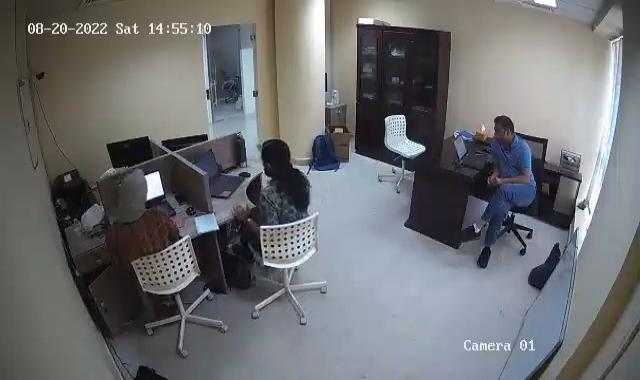no_hairnet: (257, 139, 300, 177), (491, 113, 520, 150), (118, 168, 146, 205)
